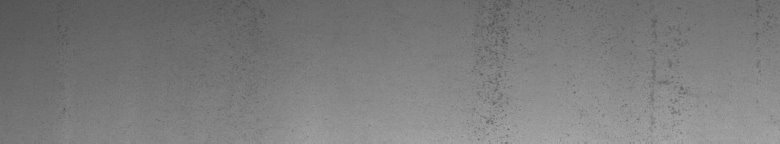ib: (650, 10, 776, 125)
